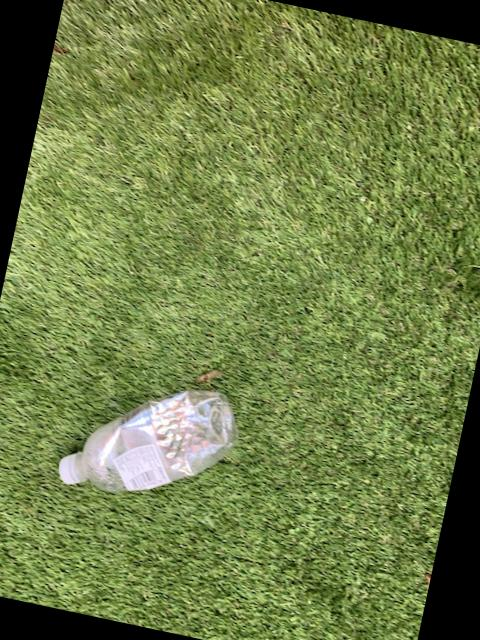plastic: (57, 390, 234, 492)
